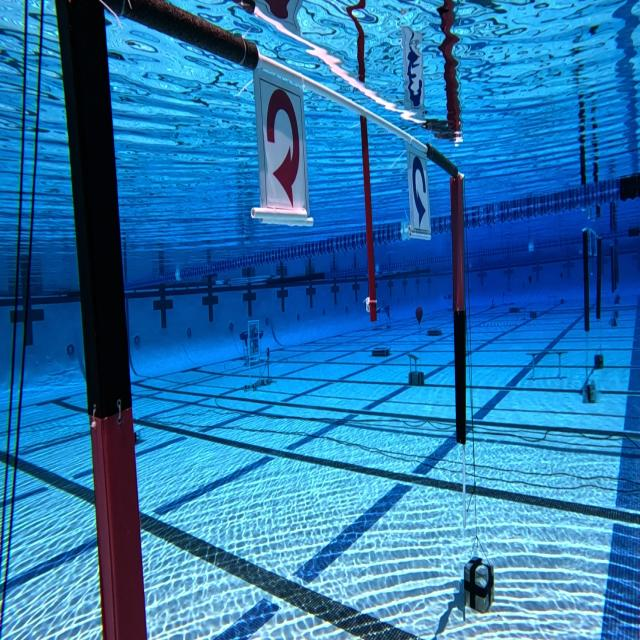blue_side: (406, 134, 434, 238)
red_side: (250, 58, 312, 221)
